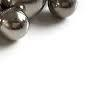ironball: (0, 8, 29, 41), (6, 0, 44, 20), (45, 0, 79, 19), (0, 0, 12, 9)
